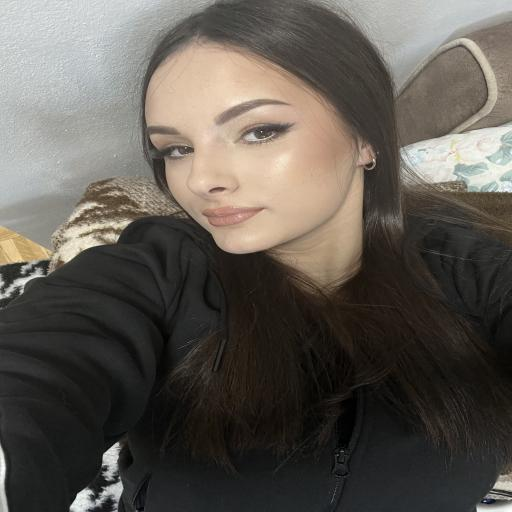marija: (140, 52, 368, 256)
